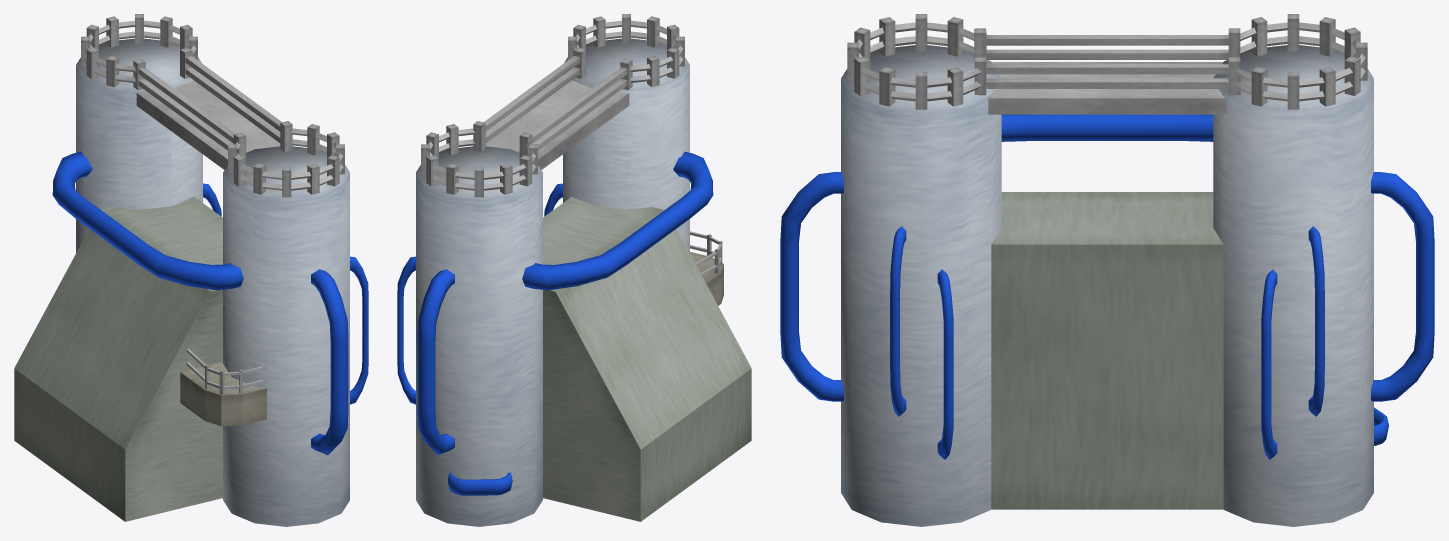
The model's file is Torre De Processamento 1.fbx.
The picture shows the model from 3 angles, left to right: view 1: azimuth 30°, elevation 25°; view 2: azimuth 150°, elevation 25°; view 3: azimuth 270°, elevation 25°; orthographic projection. The views are drawn at different scales.
Parts seen in each view (by area): view 1: Cube.001; view 2: Cube.001; view 3: Cube.001.
Part boxes in pixels (x1,y1,x2,y2): Cube.001: [14, 14, 368, 526]; Cube.001: [397, 14, 751, 526]; Cube.001: [780, 14, 1434, 526].
Bounding box in the file's own units: 732 × 1152 × 1527.
